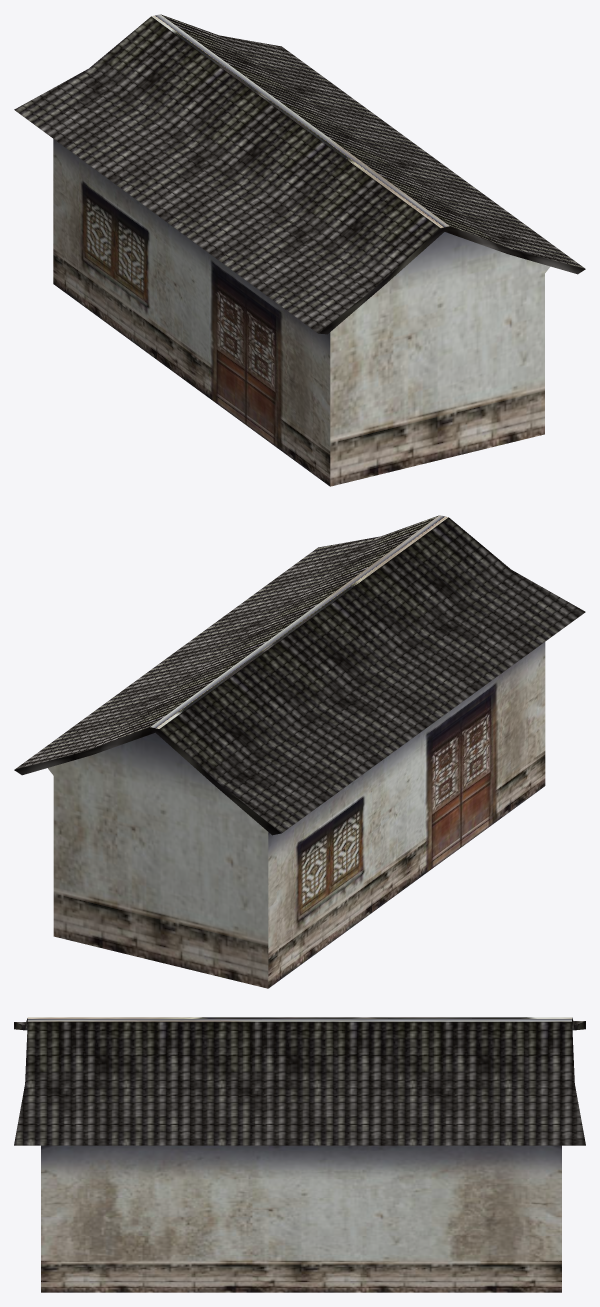
File: ian1601.obj
The picture shows the model from 3 angles, top to bottom: view 1: azimuth 30°, elevation 25°; view 2: azimuth 150°, elevation 25°; view 3: azimuth 270°, elevation 25°; orthographic projection. The views are drawn at different scales.
Visible parts, largest first — view 1: ian1601; view 2: ian1601; view 3: ian1601.
Boxes of the visible parts, box(x1,y1,x2,y2) form: ian1601: box(14, 14, 585, 486); ian1601: box(14, 515, 585, 988); ian1601: box(14, 1017, 585, 1292).
Size of the model in its own units: 117 by 99.21 by 229.
